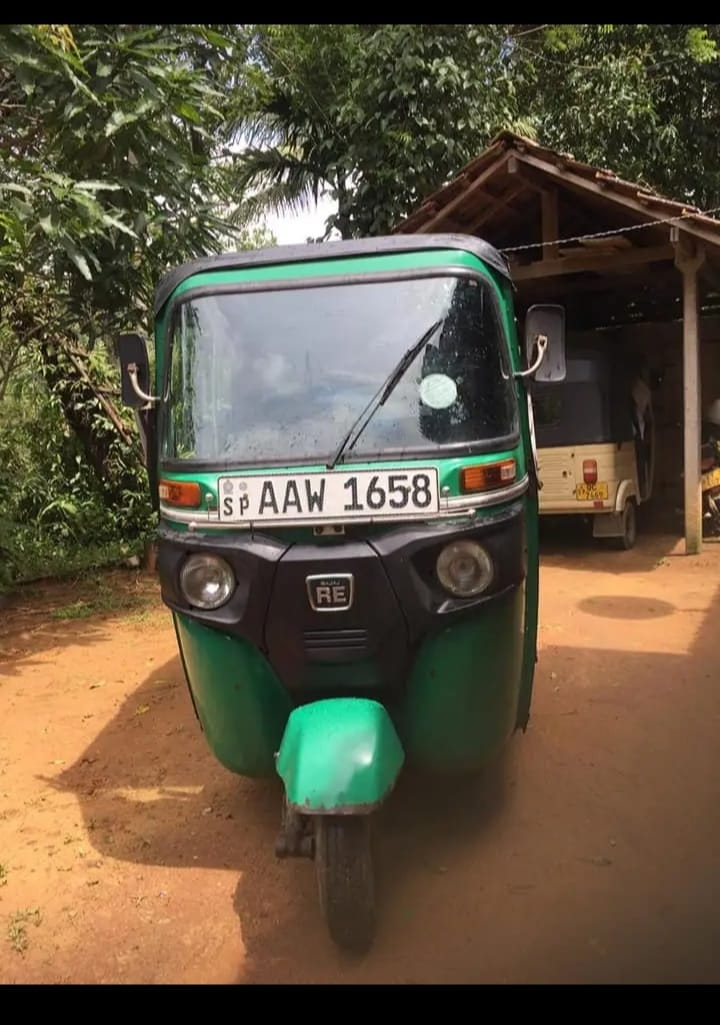number_plate: (219, 475, 439, 513)
